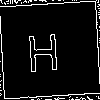H: (25, 25, 61, 72)
